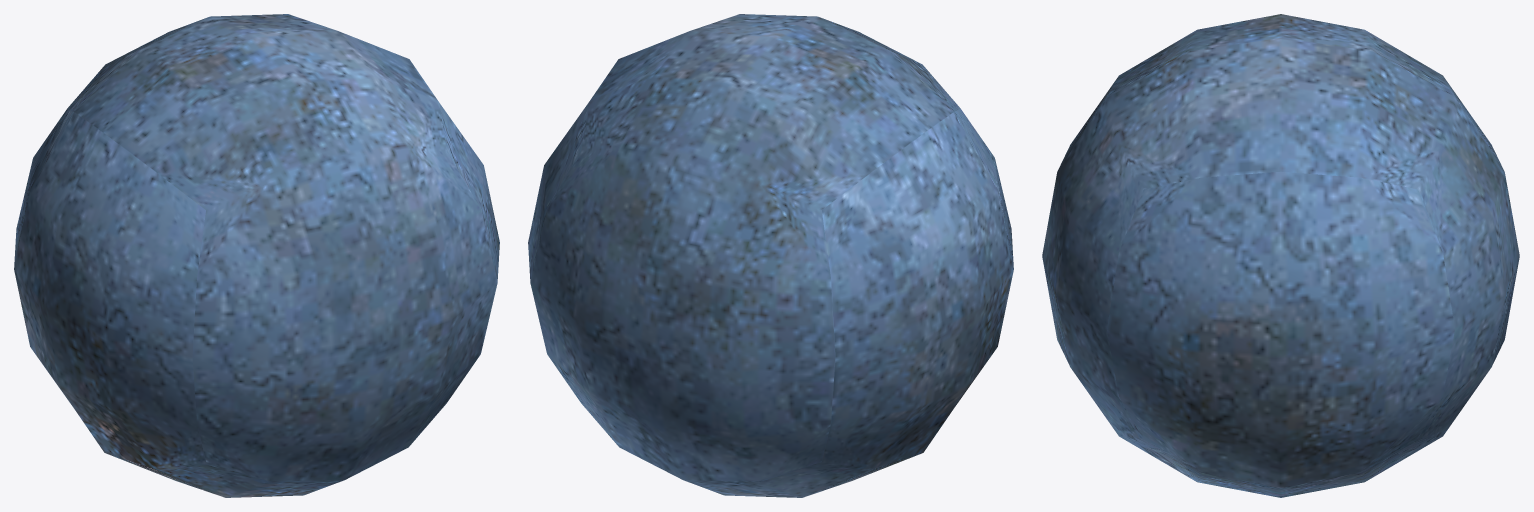
The model's file is thm_prp_gungan_plasma_sphere.fbx.
3 renders of one model, left to right at view 1: azimuth 30°, elevation 25°; view 2: azimuth 150°, elevation 25°; view 3: azimuth 270°, elevation 25°, orthographic.
Visible parts, largest first — view 1: mesh_node; view 2: mesh_node; view 3: mesh_node.
Boxes of the visible parts, <box> form: mesh_node: <box>14,14,499,497</box>; mesh_node: <box>528,14,1013,497</box>; mesh_node: <box>1042,14,1519,497</box>.
Bounding box in the file's own units: 0.8598 × 0.8598 × 0.8598.
